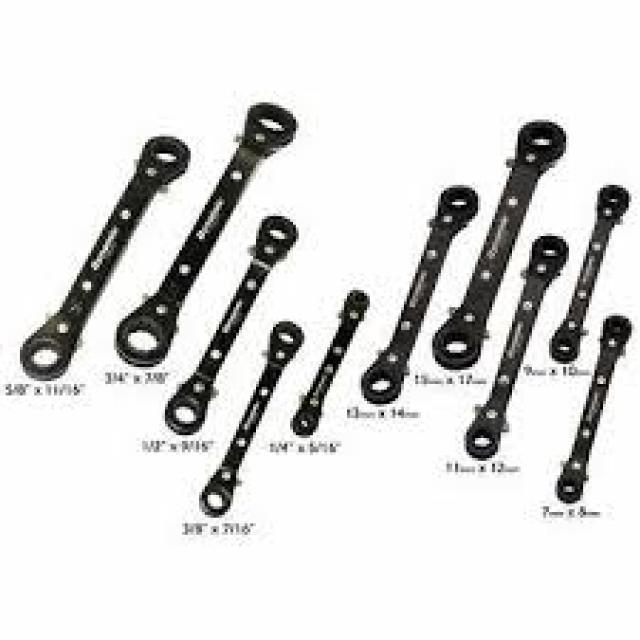wrench: (118, 99, 302, 362), (20, 128, 192, 381), (432, 110, 572, 367), (164, 210, 300, 436), (359, 180, 482, 410), (457, 232, 572, 464), (194, 318, 300, 518), (550, 309, 640, 511), (546, 175, 635, 369), (286, 286, 379, 434)
